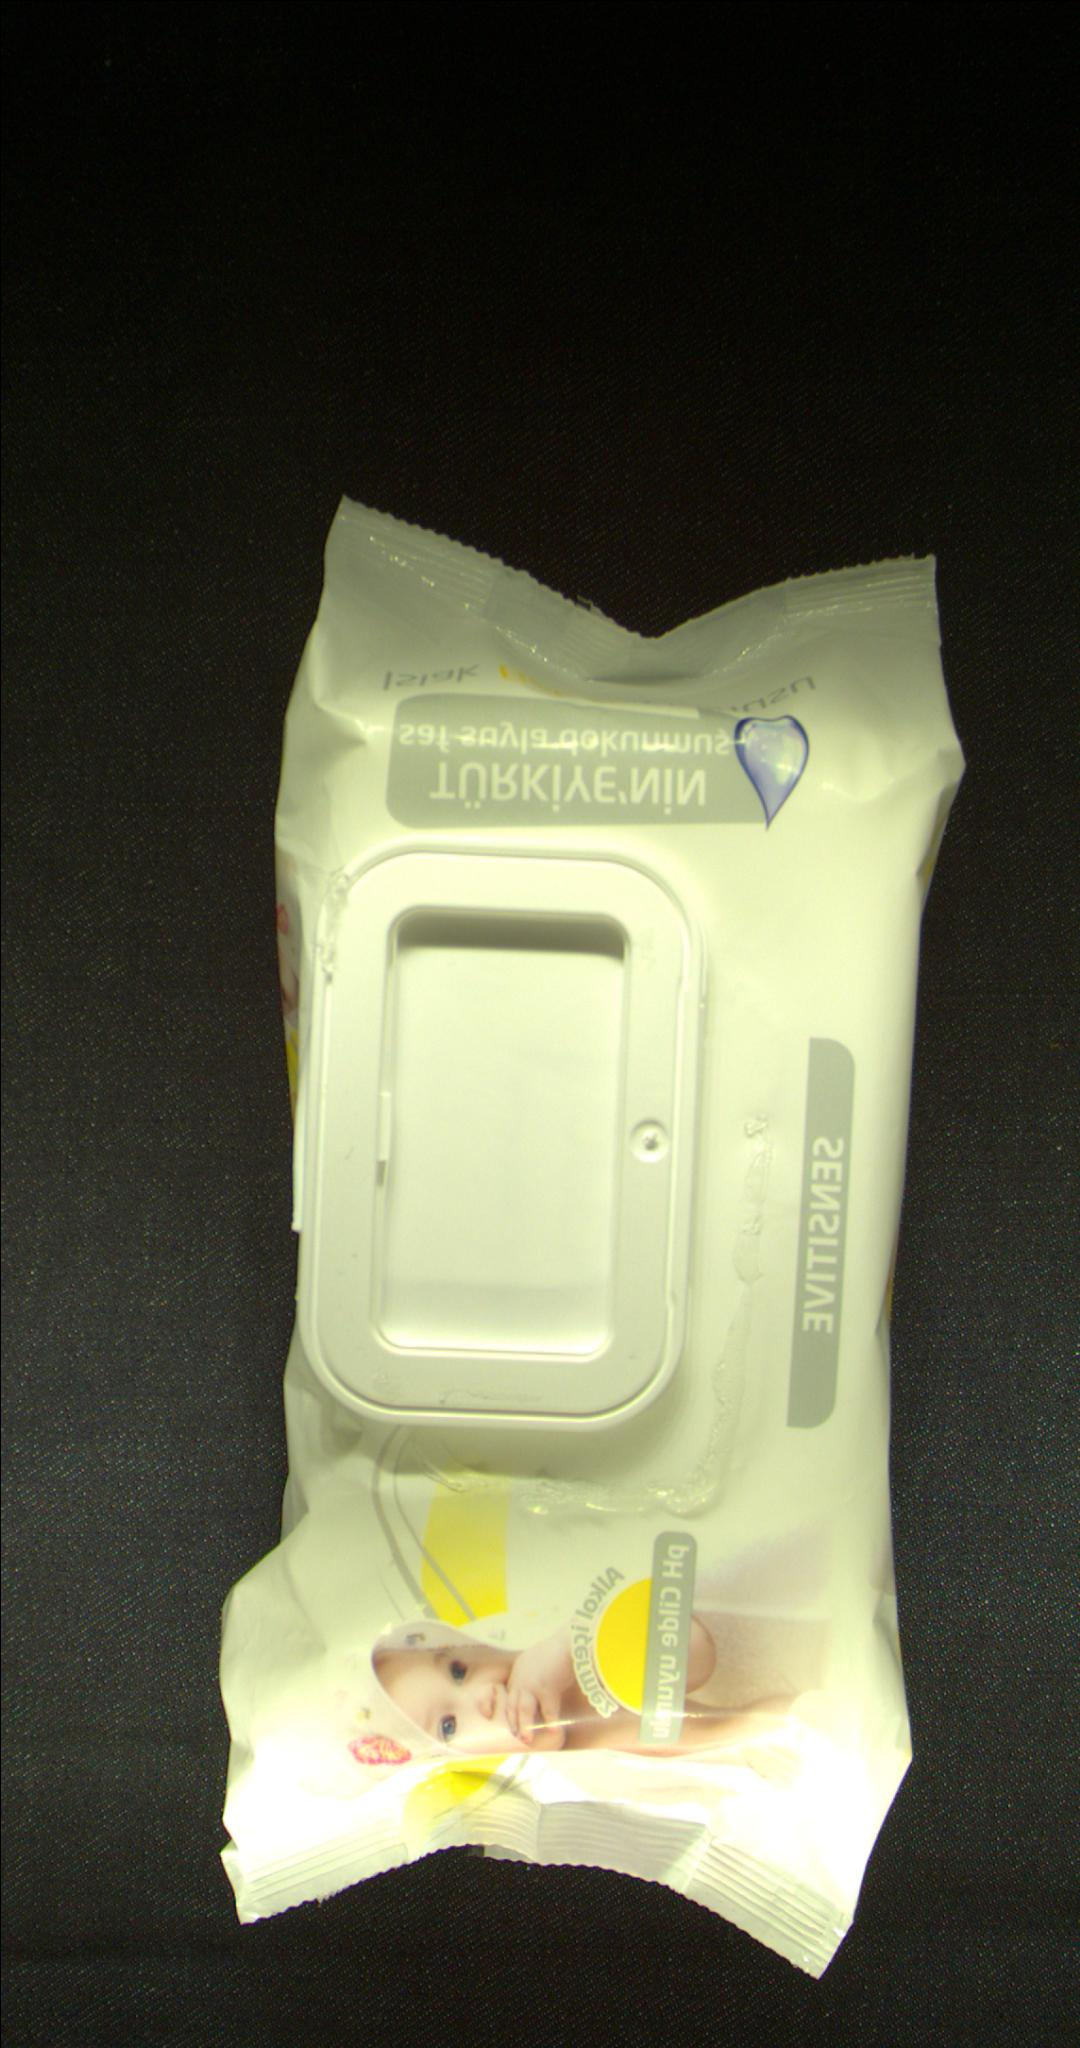hatali-kapak: (297, 832, 709, 1448)
